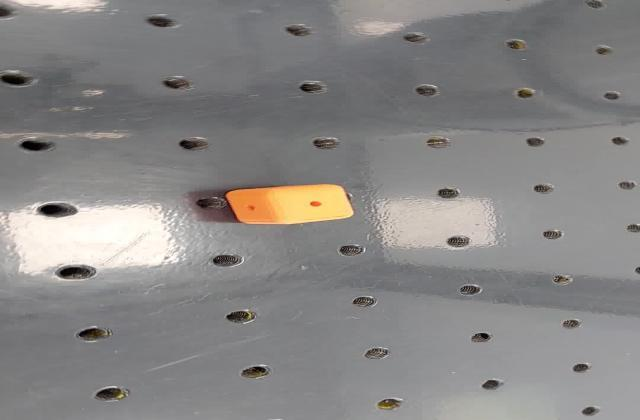cube: (218, 182, 358, 227)
